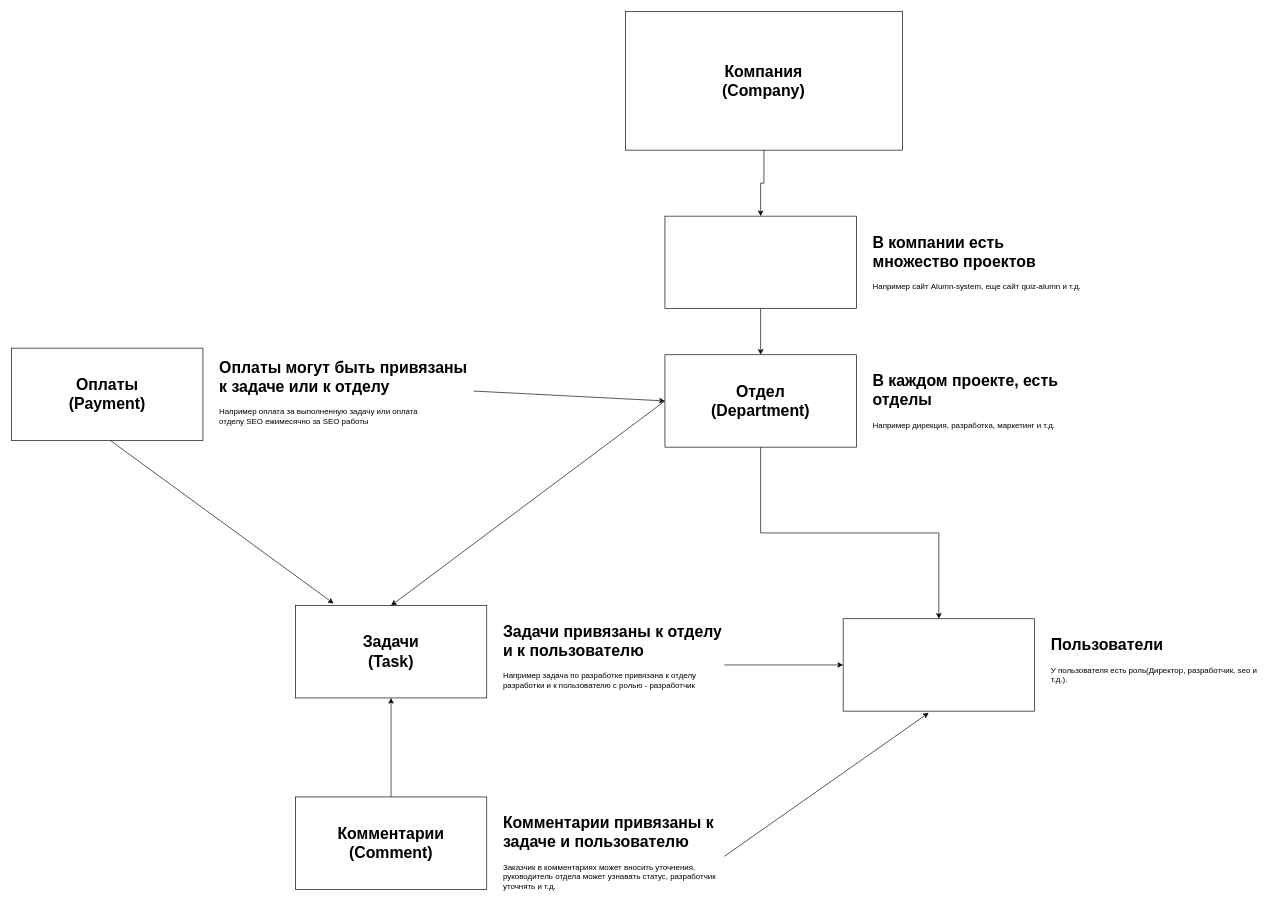
Some shapes in this 1284 by 914 pixel diagram are drawn without their labels. The shapes that lost their labels are listed below. From the top down, each one's centre as x and y in pixels, then its label:
At [760,262]: "Проект (Project)".
At [938,664]: "Пользователи (Users)".
